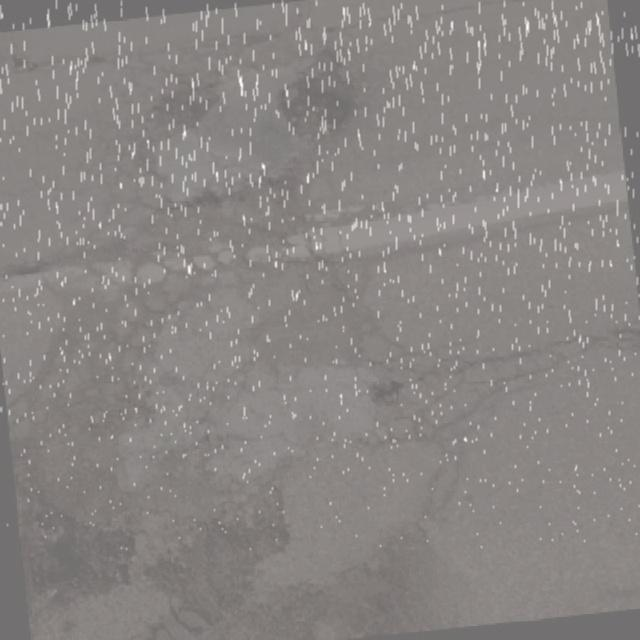Pothole: (0, 406, 291, 626), (322, 343, 456, 475)
